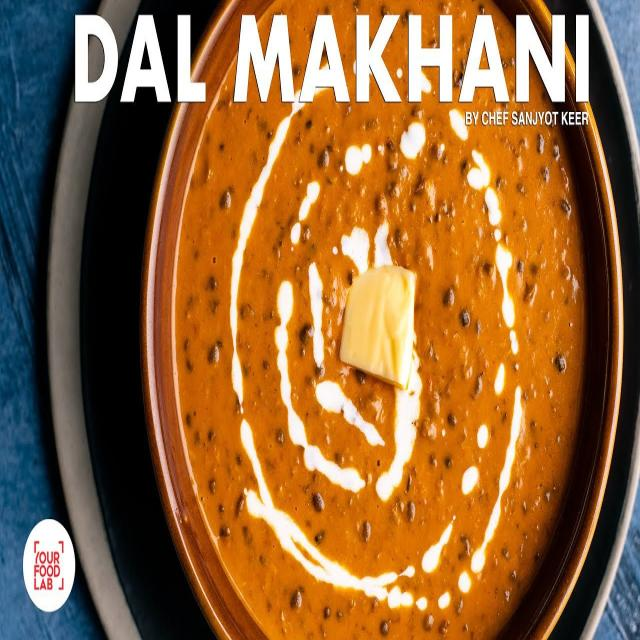dal_makhani: (143, 0, 610, 640)
